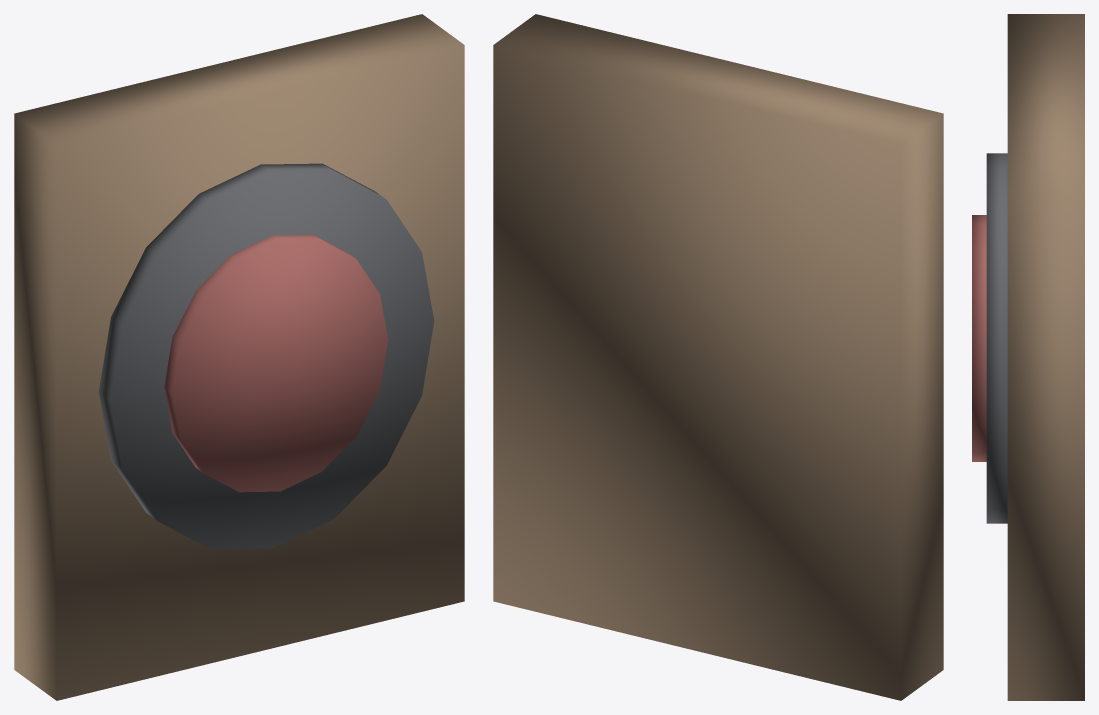
File: dartboard_cabinet__compact.glb
The picture shows the model from 3 angles, left to right: view 1: azimuth 30°, elevation 25°; view 2: azimuth 150°, elevation 25°; view 3: azimuth 270°, elevation 25°; orthographic projection. The views are drawn at different scales.
Visible parts, largest first — view 1: world; view 2: world; view 3: world.
Boxes of the visible parts, x1=… form: world: x1=14, y1=14, x2=464, y2=700; world: x1=493, y1=14, x2=943, y2=700; world: x1=972, y1=14, x2=1084, y2=700.
Bounding box in the file's own units: 0.5712 × 0.744 × 0.1505.
